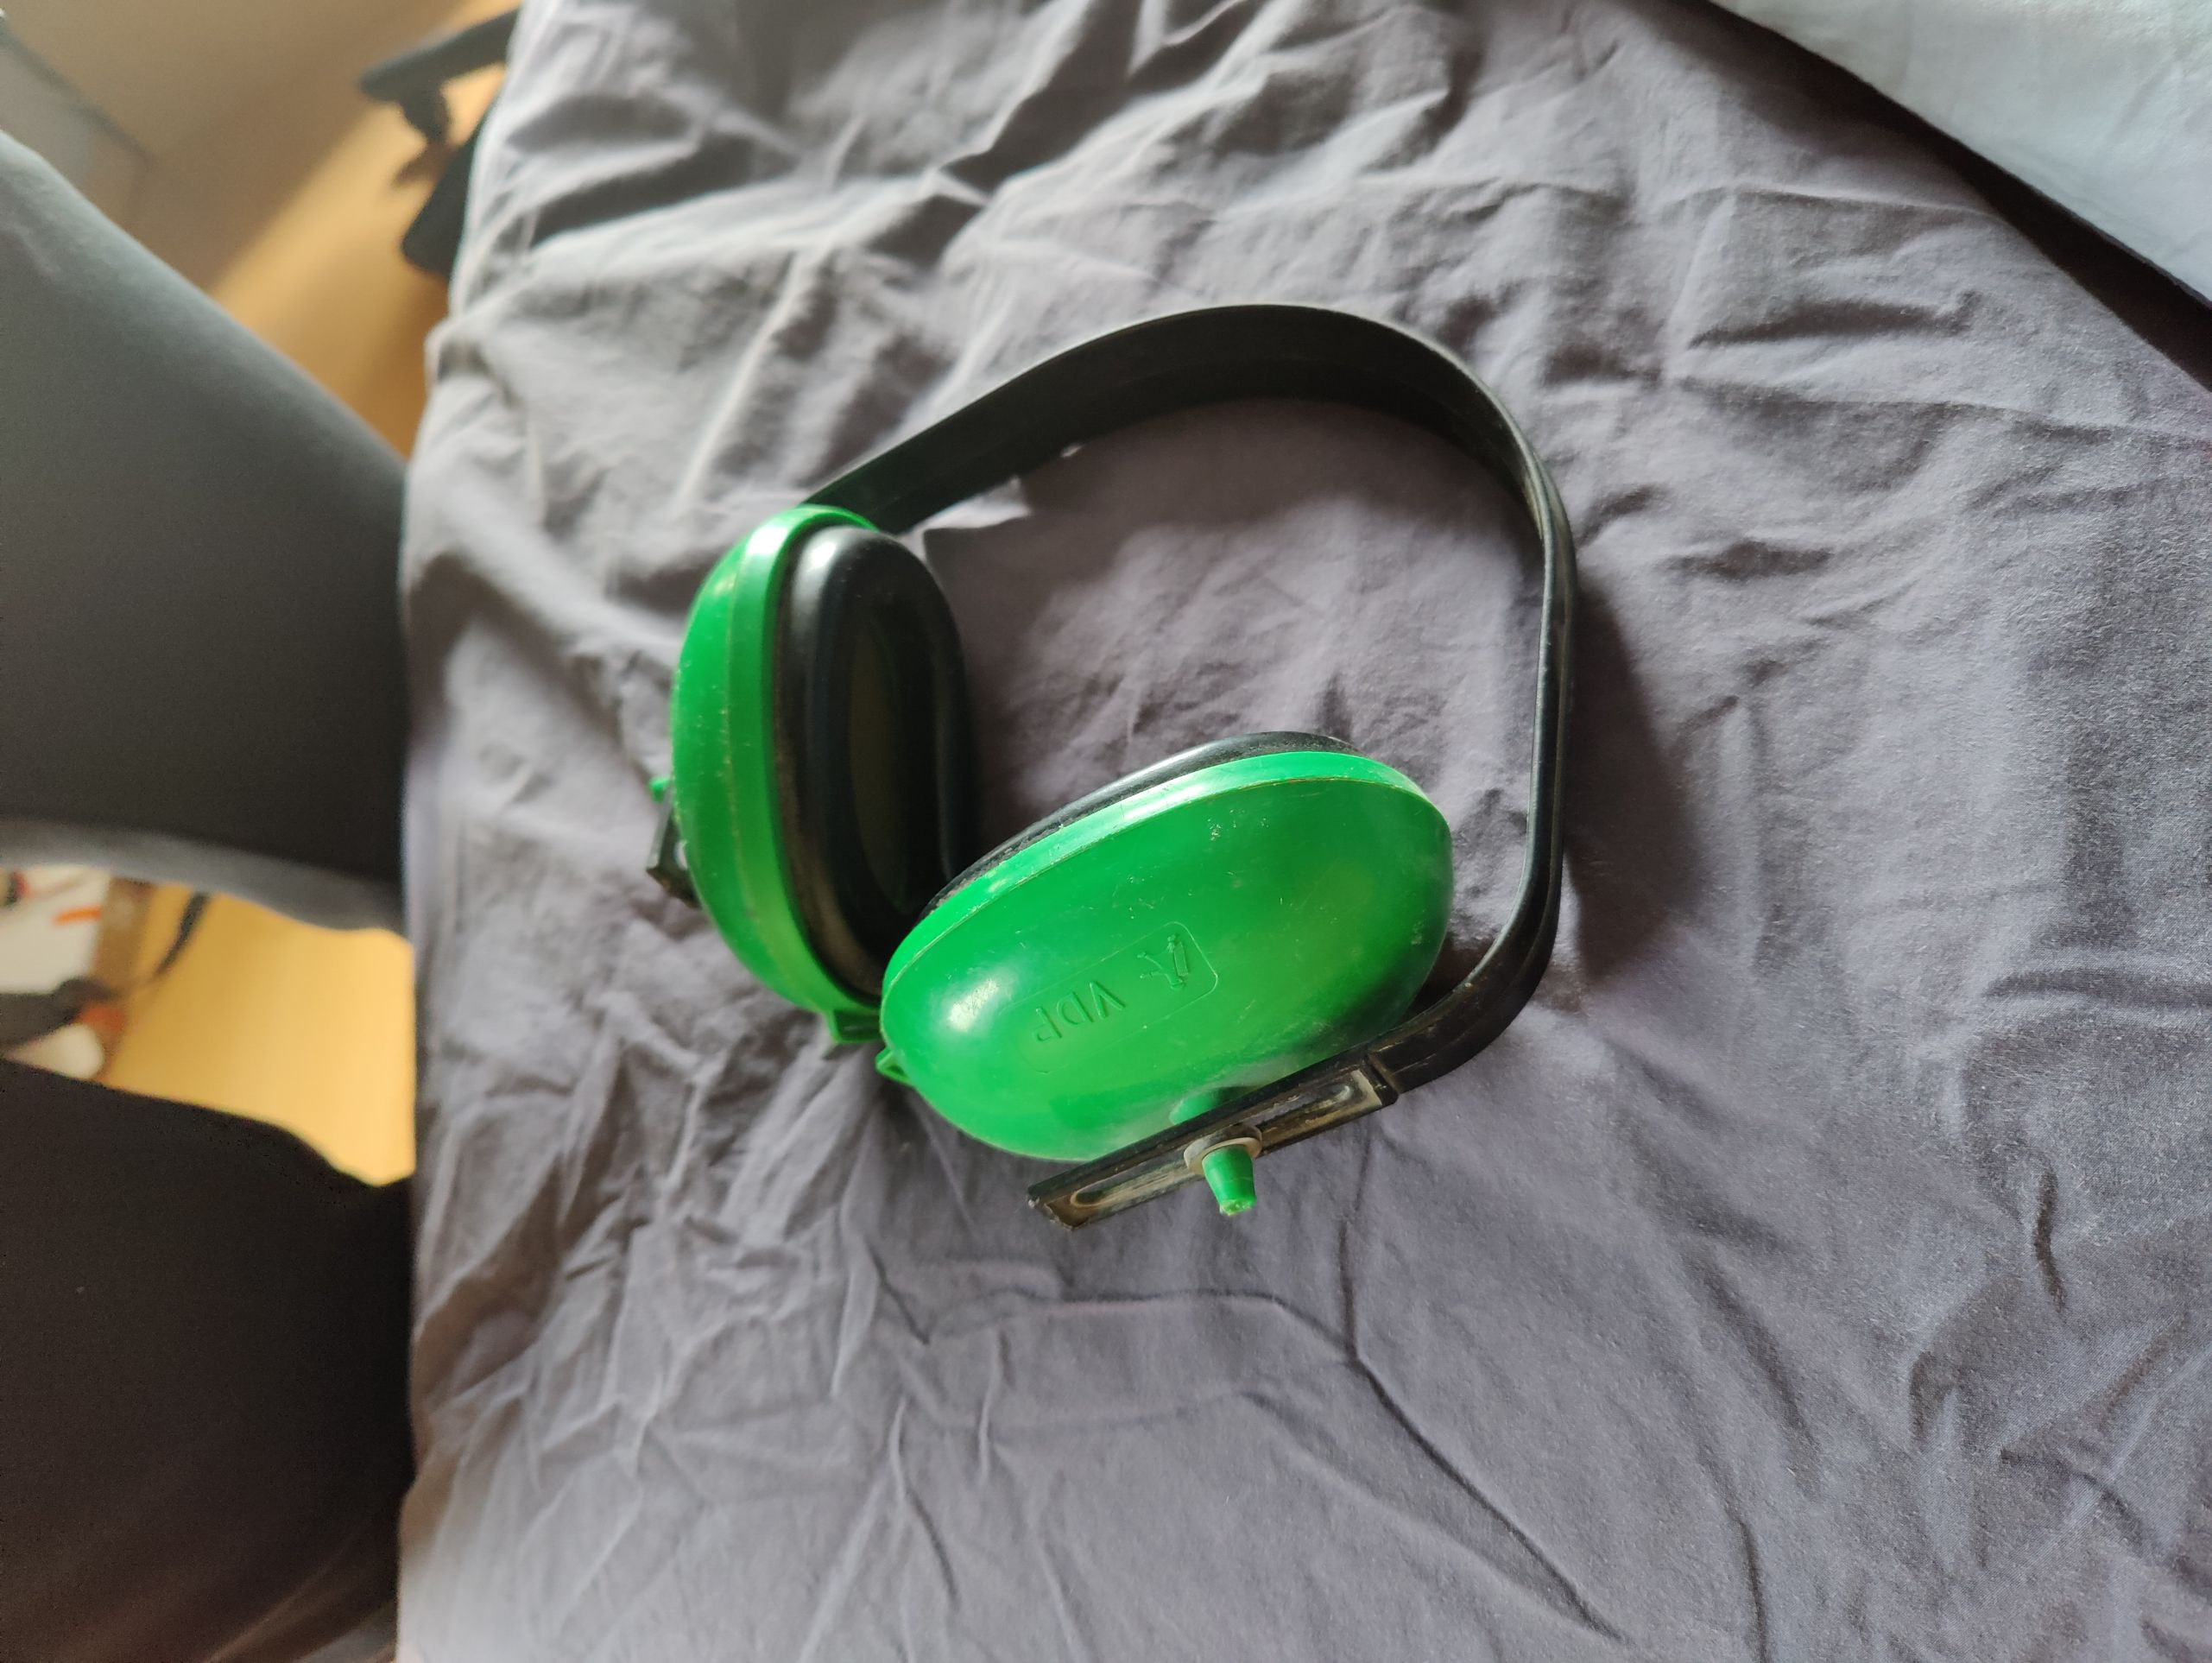headphones: (646, 304, 1578, 1226)
